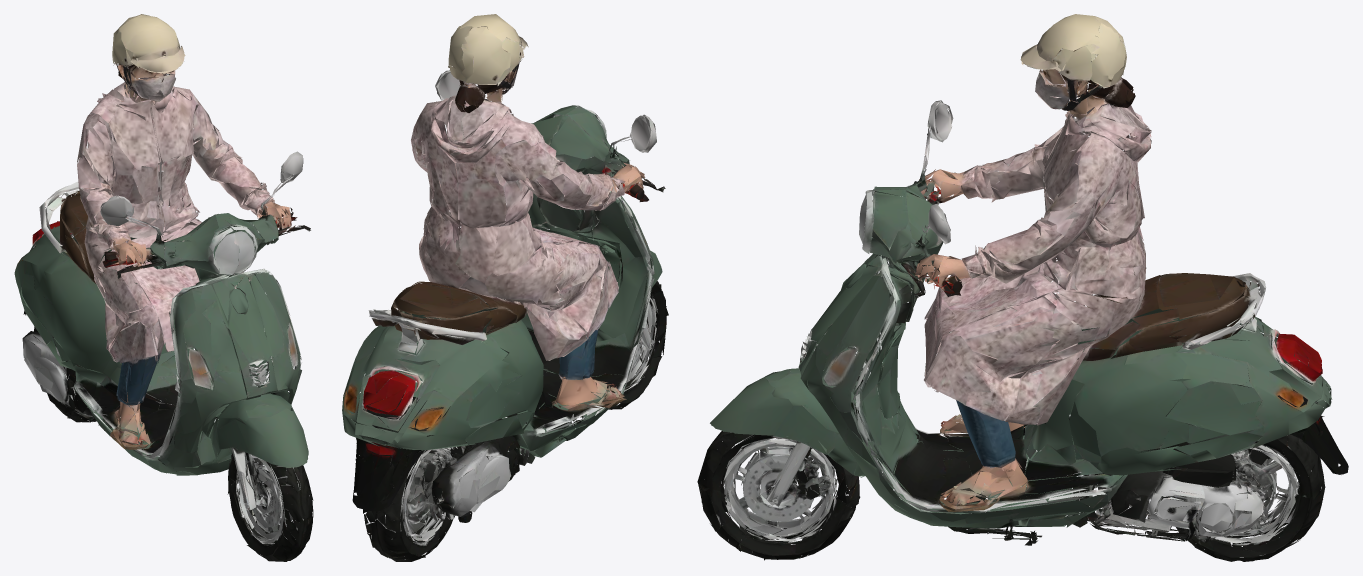
Rendered from rider_f.glb.
3 renders of one model, left to right at view 1: azimuth 30°, elevation 25°; view 2: azimuth 150°, elevation 25°; view 3: azimuth 270°, elevation 25°, orthographic. The views are drawn at different scales.
Visible parts, largest first — view 1: sc1_rider_f_a; view 2: sc1_rider_f_a; view 3: sc1_rider_f_a.
Boxes of the visible parts, x1=… form: sc1_rider_f_a: x1=14, y1=14, x2=313, y2=561; sc1_rider_f_a: x1=342, y1=14, x2=668, y2=561; sc1_rider_f_a: x1=697, y1=14, x2=1348, y2=561.
Size of the model in its own units: 0.8098 by 1.7 by 1.86.
1 material, 1 textured.
